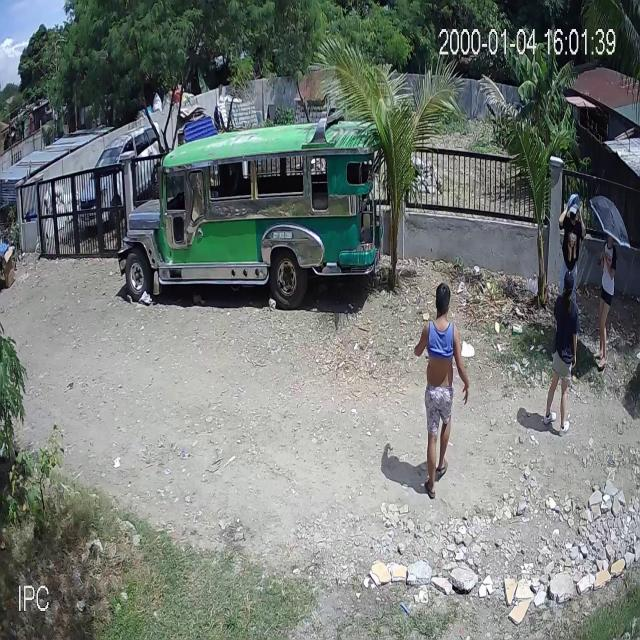standing: (545, 269, 580, 437), (592, 227, 618, 376), (559, 188, 585, 306)
walking: (408, 286, 466, 510)
